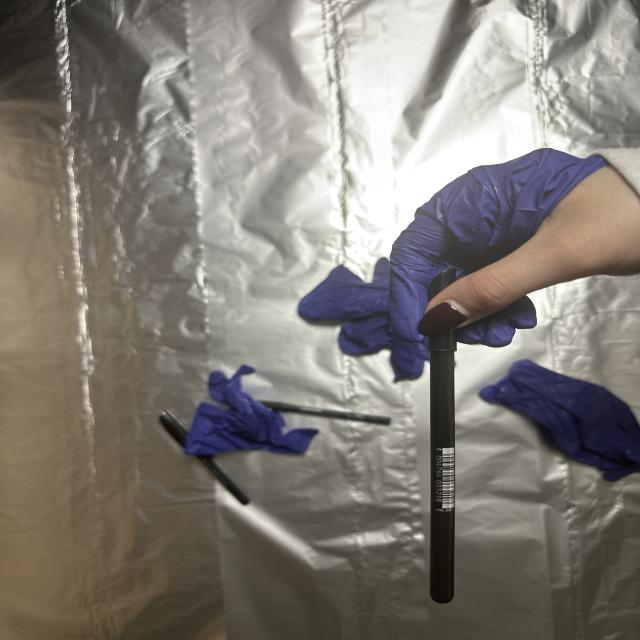glove_partial: (375, 139, 640, 354)
